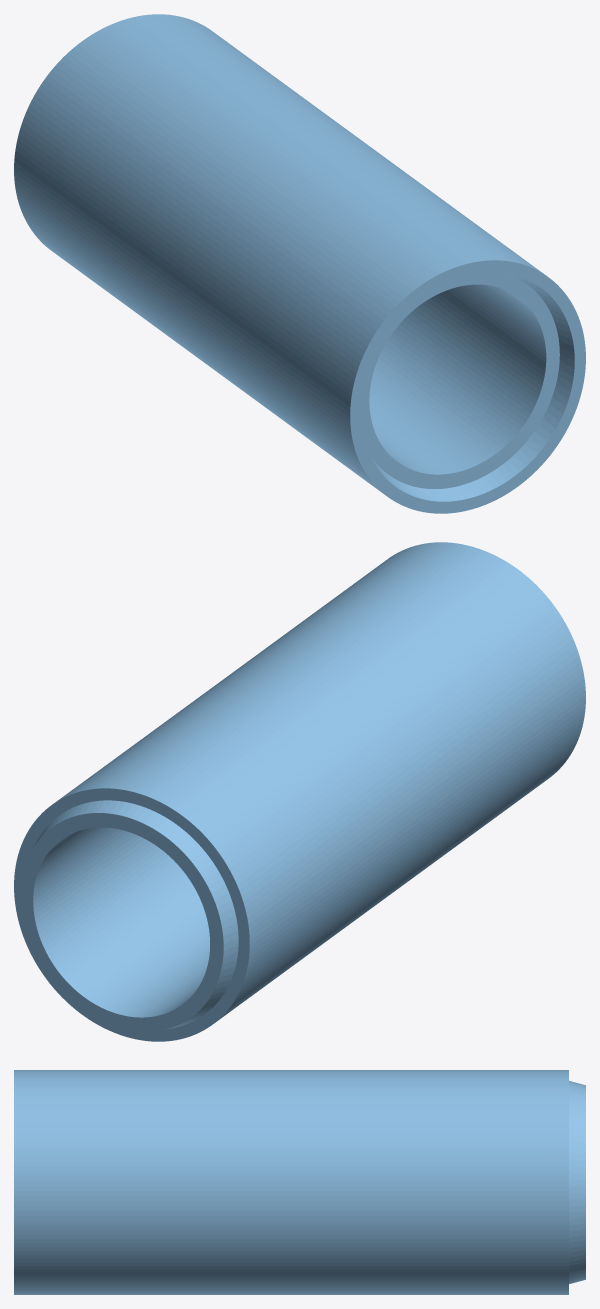
File: standard.glb
3 views of the same model, one above another, from view 1: azimuth 30°, elevation 25°; view 2: azimuth 150°, elevation 25°; view 3: azimuth 270°, elevation 25° (orthographic). The views are drawn at different scales.
Parts seen in each view (by area): view 1: 300mm-pipe-Body; view 2: 300mm-pipe-Body; view 3: 300mm-pipe-Body.
Part boxes in pixels (box(x1,y1,x2,y2)): 300mm-pipe-Body: box(14, 14, 585, 513); 300mm-pipe-Body: box(14, 542, 585, 1041); 300mm-pipe-Body: box(14, 1070, 585, 1294).
Bounding box in the file's own units: 4 × 4 × 10.18.
